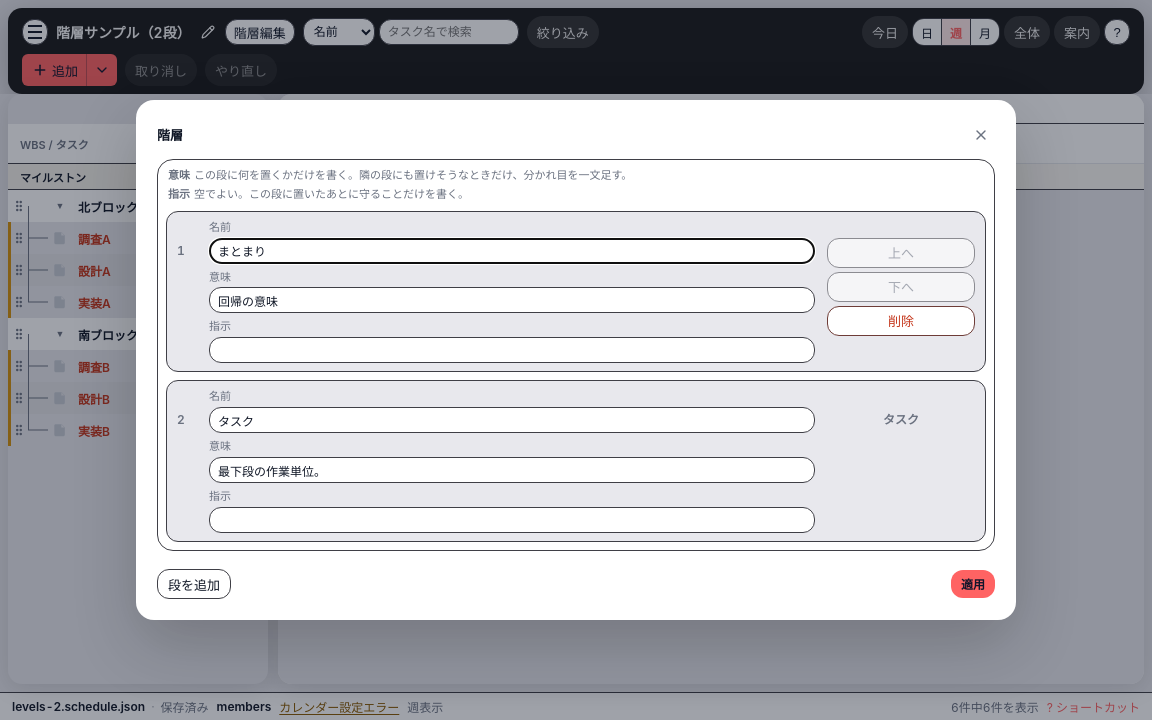
Test: App integration (Issue 548) › TC-HIER-06c: external change while the hierarchy dialog is open still asks after close
This screenshot has width=1152, height=720.
Earlier steps of the test are not shown.
Later steps or results of the test are not shown.
Click the button named "閉じる" at {"x": 981, "y": 135}, box [967,121,995,149]
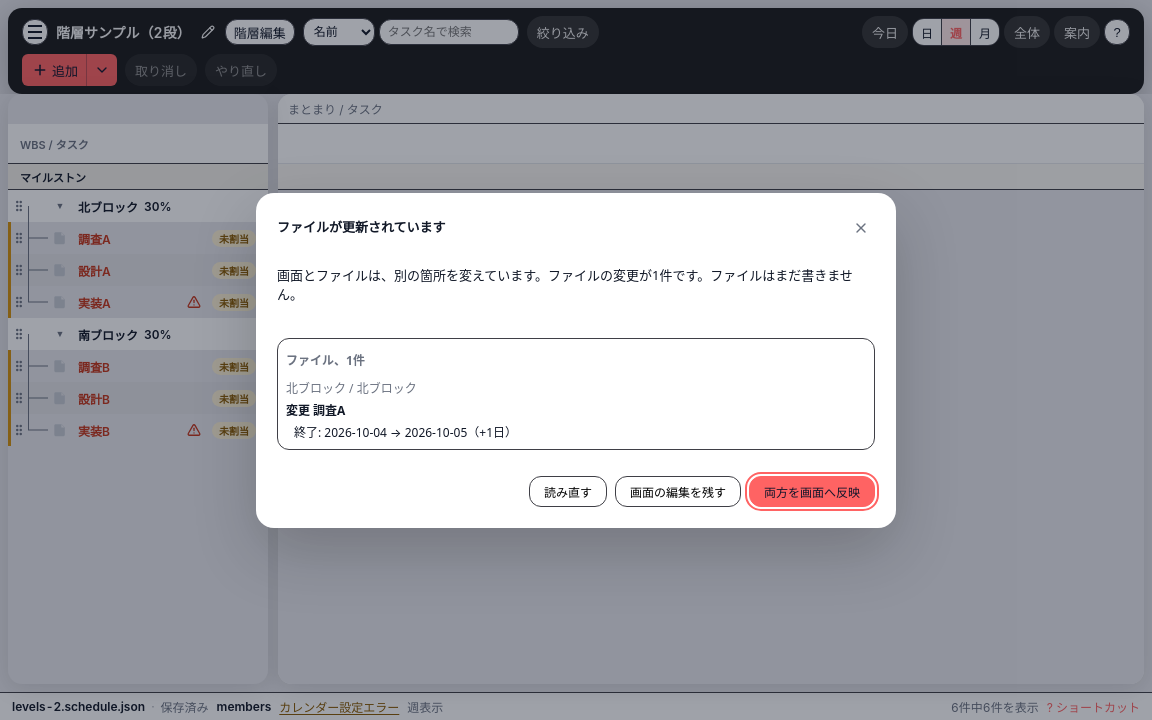
Expected: the dialog "ファイルが更新されています" is shown
